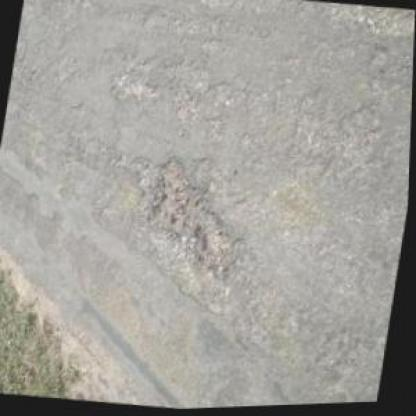pothole: (140, 150, 257, 280), (107, 66, 158, 107)
